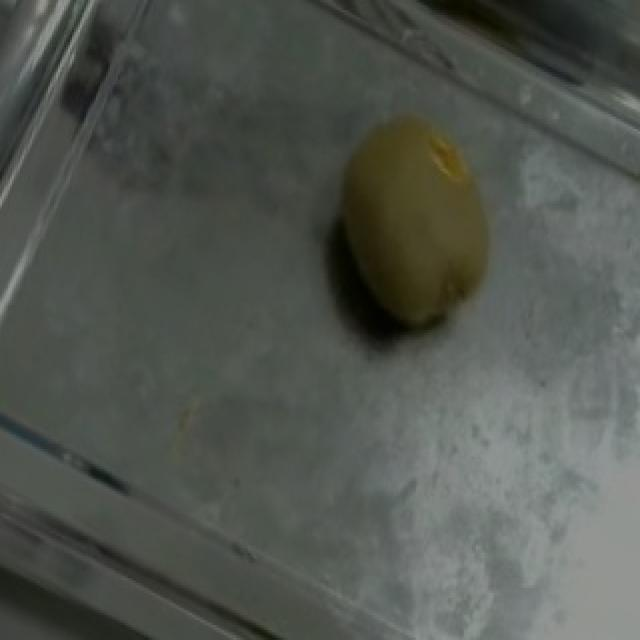Fruit: (288, 77, 540, 374)
